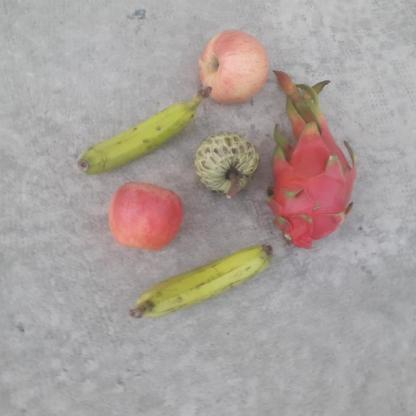annona: (192, 129, 262, 201)
apple: (107, 180, 188, 254), (198, 29, 272, 106)
banana: (76, 86, 216, 177), (128, 245, 274, 318)
pitaya: (264, 111, 359, 248)
